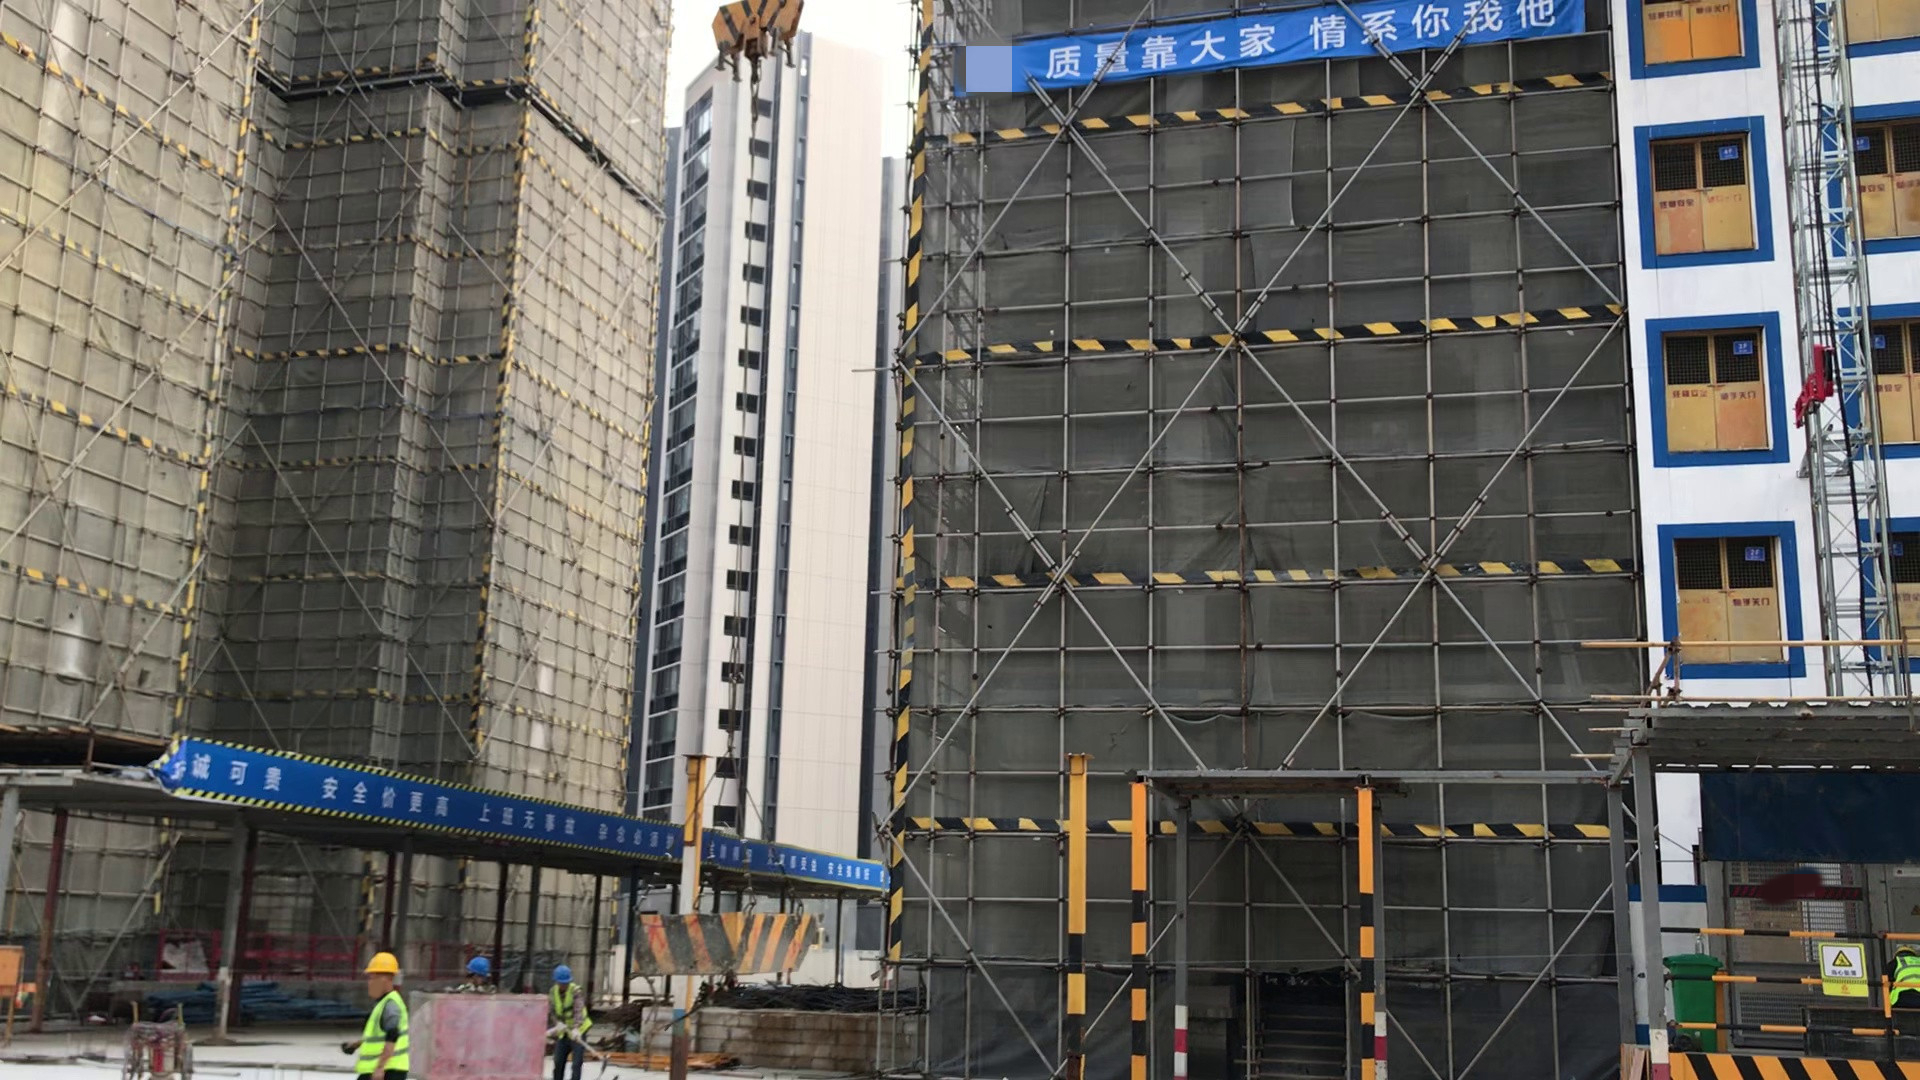fence: (162, 931, 471, 988)
handcart: (115, 1000, 202, 1080)
helmet: (365, 950, 400, 975), (466, 956, 492, 976), (550, 964, 572, 983)
hook: (708, 3, 804, 81)
hopper: (628, 901, 823, 977)
person: (340, 949, 412, 1080), (547, 964, 595, 1080), (1886, 937, 1920, 1000)
slogan: (162, 731, 888, 892), (1005, 4, 1590, 80)
vest: (356, 989, 410, 1073), (552, 984, 591, 1038), (1890, 956, 1920, 1005)
